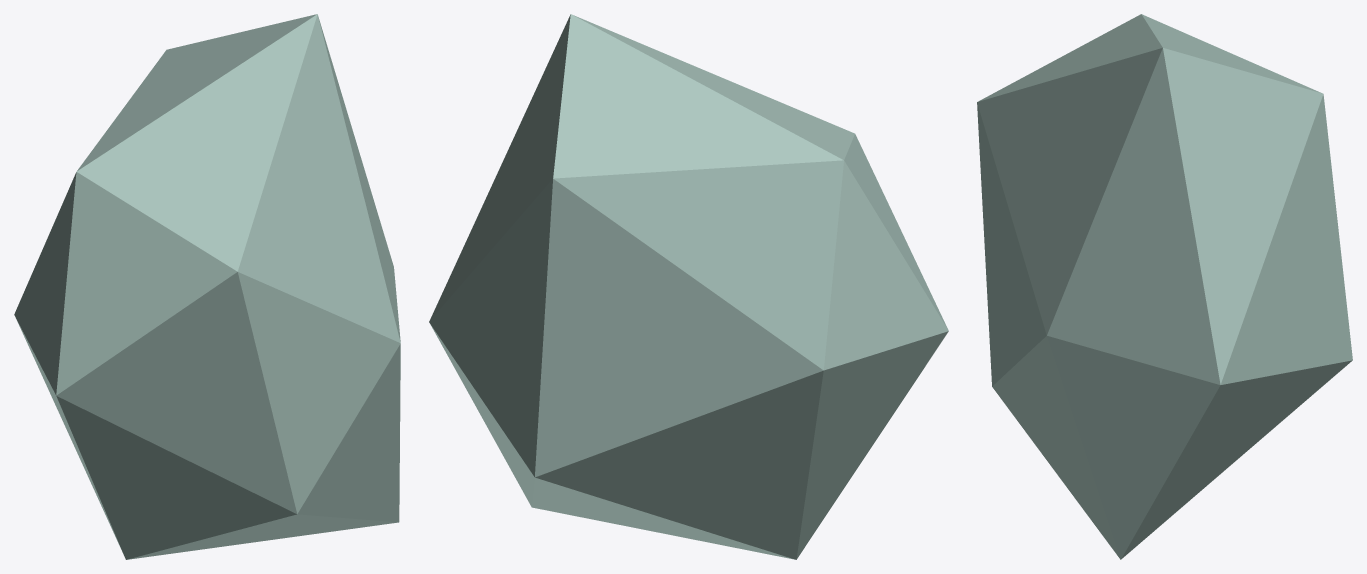
Rendered from kamen2.fbx.
3 renders of one model, left to right at view 1: azimuth 30°, elevation 25°; view 2: azimuth 150°, elevation 25°; view 3: azimuth 270°, elevation 25°, orthographic. The views are drawn at different scales.
Visible parts, largest first — view 1: kamen2; view 2: kamen2; view 3: kamen2.
Part boxes in pixels (left/top/right/bottom): kamen2: left=14, top=14, right=400, bottom=559; kamen2: left=429, top=14, right=948, bottom=559; kamen2: left=977, top=14, right=1352, bottom=559.
Size of the model in its own units: 184 by 212 by 149.
